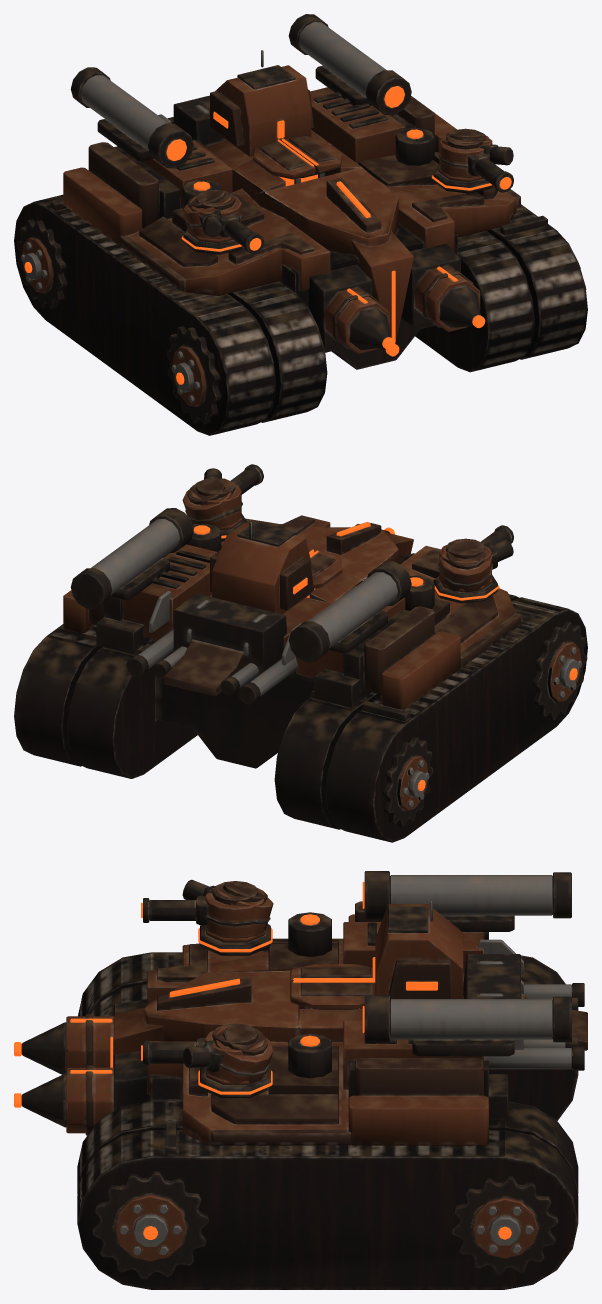
The model's file is bastion-9-v6-treads.glb.
3 renders of one model, top to bottom at view 1: azimuth 30°, elevation 25°; view 2: azimuth 150°, elevation 25°; view 3: azimuth 270°, elevation 25°, orthographic. The views are drawn at different scales.
Visible parts, largest first — view 1: bastion_hull, bastion_forward_cannon_left, bastion_forward_cannon_right, bastion_sprocket_left, bastion_idler_left, bastion_gun_right, bastion_gun_left, bastion_core_shutter_a, bastion_battery_left_wreck, bastion_core_shutter_b, bastion_battery_right_wreck, bastion_battery_left (+1 smaller); view 2: bastion_hull, bastion_sprocket_left, bastion_idler_left, bastion_battery_left_wreck, bastion_battery_right_wreck, bastion_gun_right, bastion_gun_left, bastion_core_shutter_a, bastion_battery_left, bastion_track_link_left_1; view 3: bastion_hull, bastion_sprocket_right, bastion_idler_right, bastion_forward_cannon_right, bastion_forward_cannon_left, bastion_gun_left, bastion_battery_right_wreck, bastion_core_shutter_b, bastion_gun_right, bastion_battery_left_wreck, bastion_battery_left, bastion_core_shutter_a (+1 smaller).
Part boxes in pixels (left/top/right/bottom): bastion_hull: left=14, top=14, right=587, bottom=435; bastion_forward_cannon_left: left=308, top=264, right=395, bottom=353; bastion_forward_cannon_right: left=401, top=243, right=485, bottom=331; bastion_sprocket_left: left=166, top=326, right=221, bottom=424; bastion_idler_left: left=17, top=219, right=67, bottom=308; bastion_gun_right: left=438, top=128, right=513, bottom=192; bastion_gun_left: left=189, top=189, right=263, bottom=253; bastion_core_shutter_a: left=253, top=139, right=315, bottom=179; bastion_battery_left_wreck: left=182, top=190, right=242, bottom=253; bastion_core_shutter_b: left=281, top=135, right=342, bottom=173; bastion_battery_right_wreck: left=433, top=133, right=513, bottom=192; bastion_battery_left: left=181, top=228, right=242, bottom=254; bastion_hull: left=14, top=508, right=587, bottom=842; bastion_sprocket_left: left=532, top=621, right=587, bottom=720; bastion_idler_left: left=382, top=736, right=433, bottom=827; bastion_battery_left_wreck: left=435, top=539, right=513, bottom=603; bastion_battery_right_wreck: left=182, top=468, right=247, bottom=535; bastion_gun_right: left=189, top=464, right=263, bottom=526; bastion_gun_left: left=438, top=525, right=513, bottom=581; bastion_core_shutter_a: left=310, top=550, right=342, bottom=588; bastion_battery_left: left=433, top=575, right=499, bottom=603; bastion_track_link_left_1: left=362, top=701, right=409, bottom=721; bastion_hull: left=77, top=871, right=587, bottom=1289; bastion_sprocket_right: left=92, top=1171, right=208, bottom=1279; bastion_idler_right: left=451, top=1175, right=558, bottom=1274; bastion_forward_cannon_right: left=14, top=1050, right=150, bottom=1135; bastion_forward_cannon_left: left=14, top=999, right=147, bottom=1074; bastion_gun_left: left=141, top=881, right=265, bottom=938; bastion_battery_right_wreck: left=182, top=1024, right=273, bottom=1097; bastion_core_shutter_b: left=290, top=980, right=375, bottom=1009; bastion_gun_right: left=141, top=1023, right=264, bottom=1079; bastion_battery_left_wreck: left=182, top=879, right=273, bottom=955; bastion_battery_left: left=198, top=924, right=272, bottom=955; bastion_core_shutter_a: left=290, top=964, right=374, bottom=982.
Size of the model in its own units: 8.36 by 5 by 8.99.
2 materials, 1 textured.
